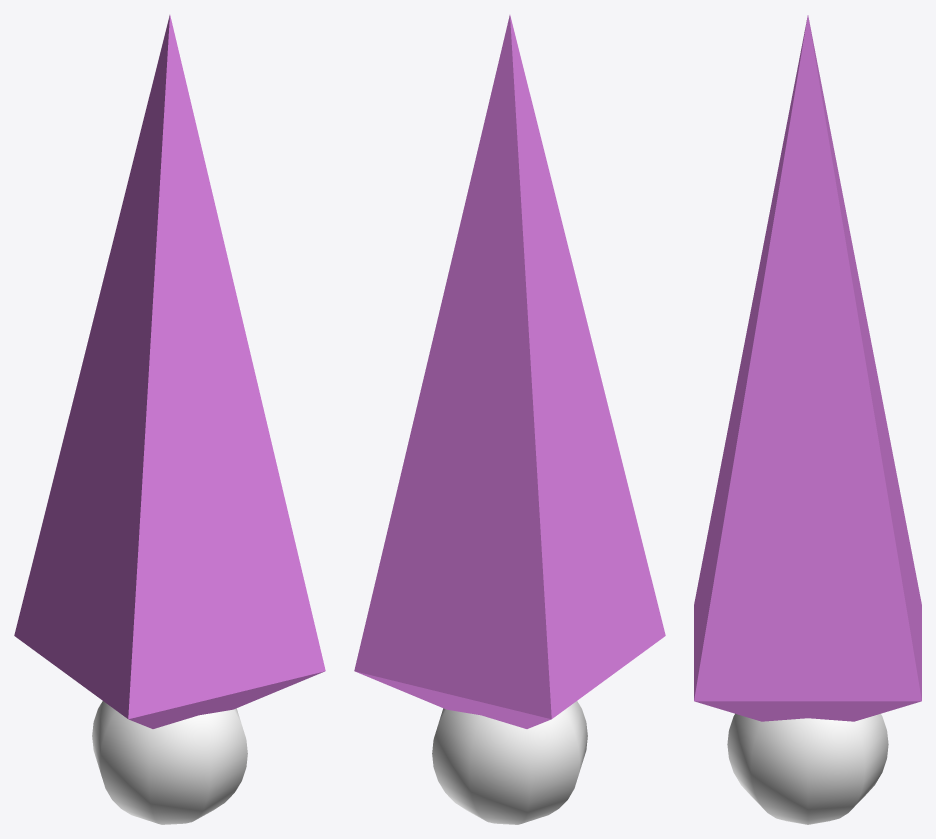
File: Bone.fbx
3 views of the same model, side by side, from view 1: azimuth 30°, elevation 25°; view 2: azimuth 150°, elevation 25°; view 3: azimuth 270°, elevation 25° (orthographic).
Parts seen in each view (by area): view 1: Cone; view 2: Cone; view 3: Cone.
Boxes of the visible parts, <box> form: Cone: <box>14,15,325,824</box>; Cone: <box>354,15,665,824</box>; Cone: <box>694,15,921,824</box>.
Size of the model in its own units: 0.2828 by 1.1 by 0.2828.
